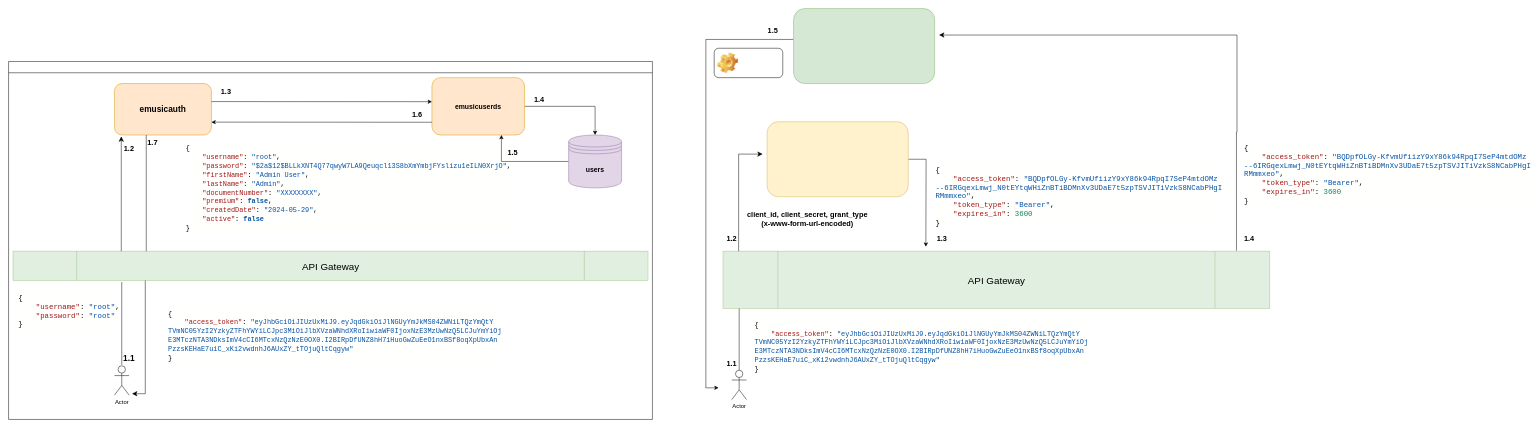
The diagram is 1540 pixels wide and 428 high, and some of its shapes have lost their labels. Here are the shapes that lost their labels. From the top down, the centre of each, then its label:
At [748,63]: "RESPONSE".
At [864,46]: "emusicapp".
At [837,159]: "Spotify".
At [330,240]: "Fluxo Autenticação".
